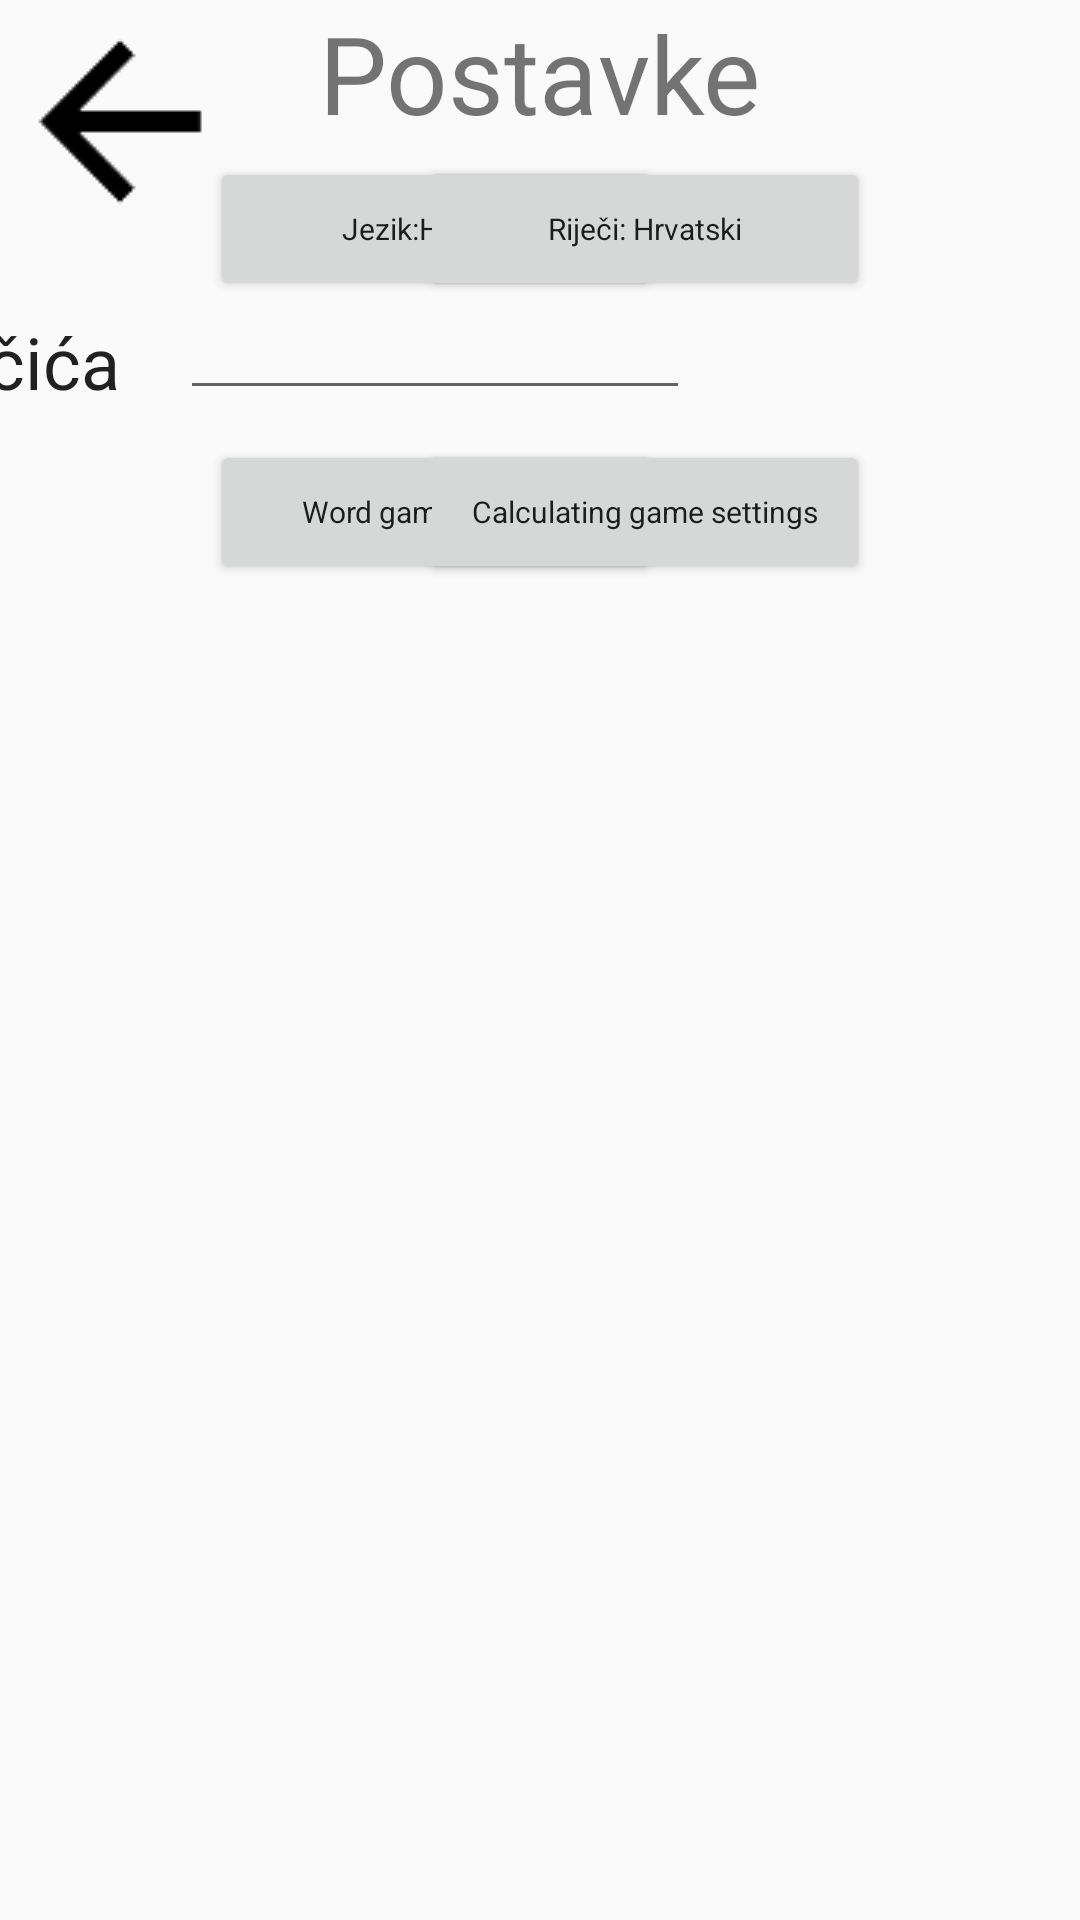

Where to tap for icons on this 1080px×1920px app screen, as point (x, y):
back arrow: point (120, 121)
